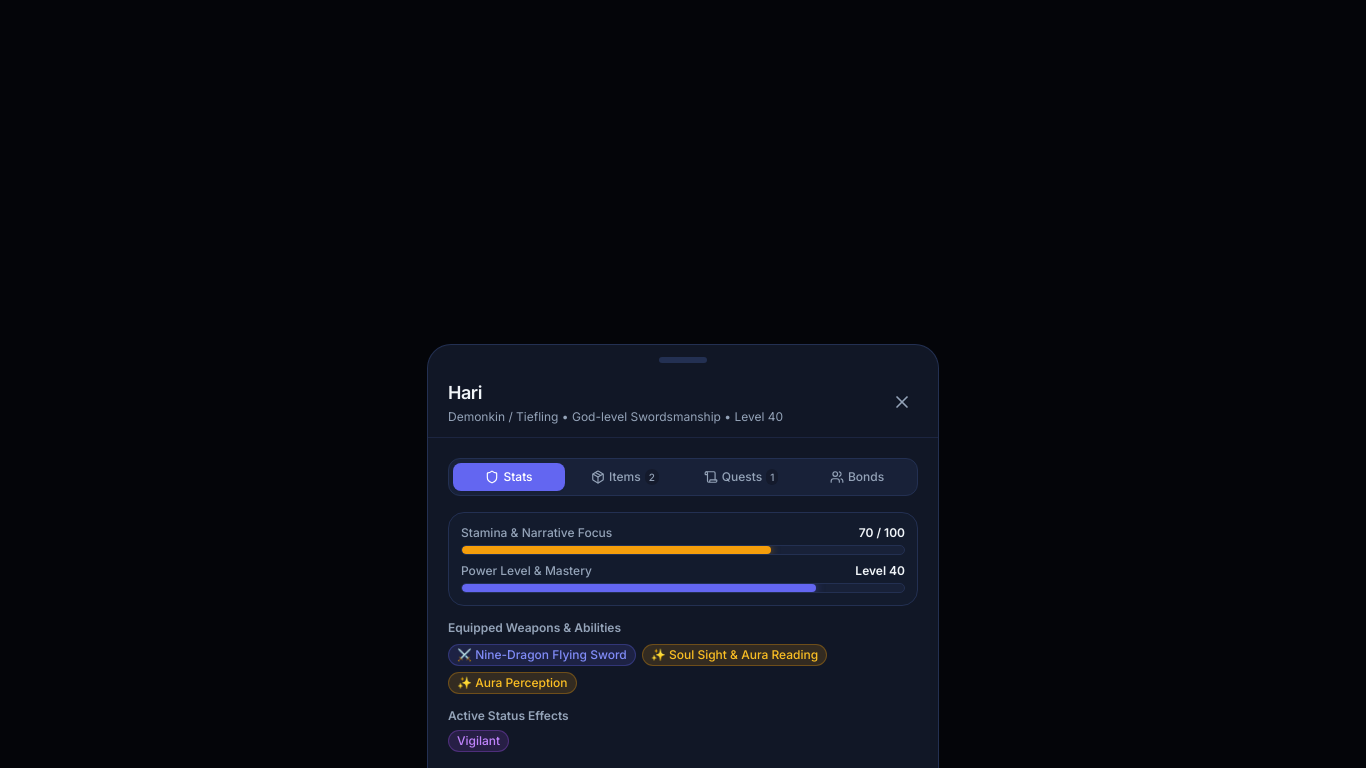
it: BranchVerse UI Components & Mobile Experience › CharacterSheetDrawer Component › displays hero statistics, HP, and inventory when open
expect the heading "Hari" is shown: met, box left=448, top=382, right=482, bottom=403
expect the text "70 / 100" is shown: met, box left=859, top=525, right=905, bottom=541
# Switch to Inventory tab
What coordinates should you click on to do the following:
click the text "Items"
I would click on:
 (625, 477)
Its box is left=609, top=469, right=641, bottom=485.
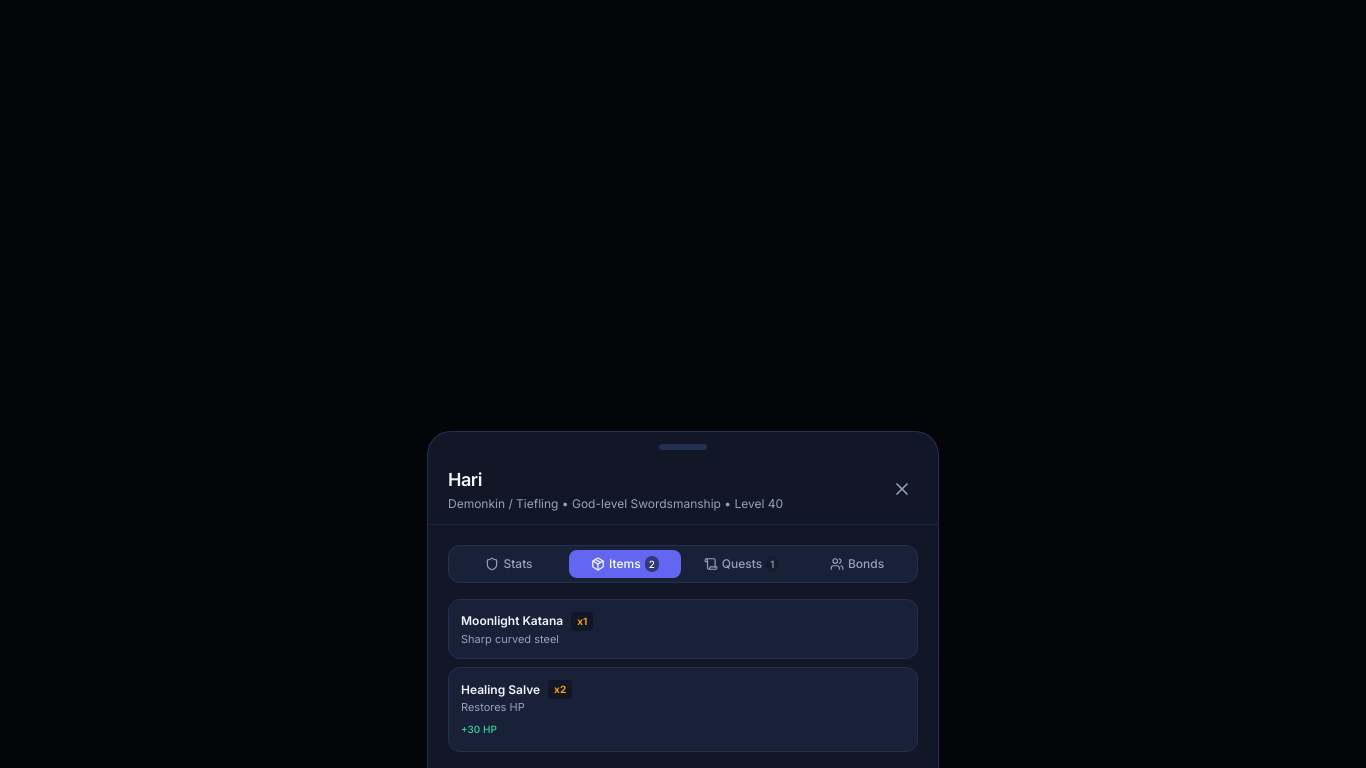
expect the text "Moonlight Katana" is shown: met, box left=461, top=613, right=563, bottom=629
expect the text "Healing Salve" is shown: met, box left=461, top=682, right=540, bottom=698
